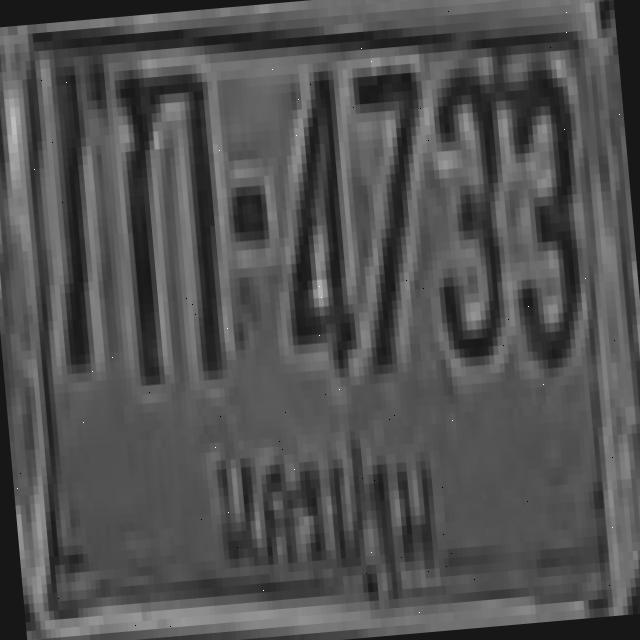10GorGai: (108, 55, 227, 377)
3: (417, 56, 515, 360), (495, 55, 589, 366)
4: (264, 61, 353, 372)
7: (343, 54, 438, 366)
NakhonPathom: (197, 411, 450, 631)
